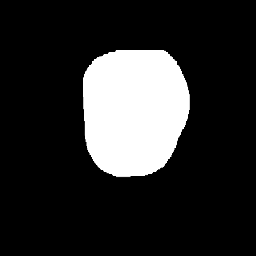mass: (85, 51, 189, 173)
